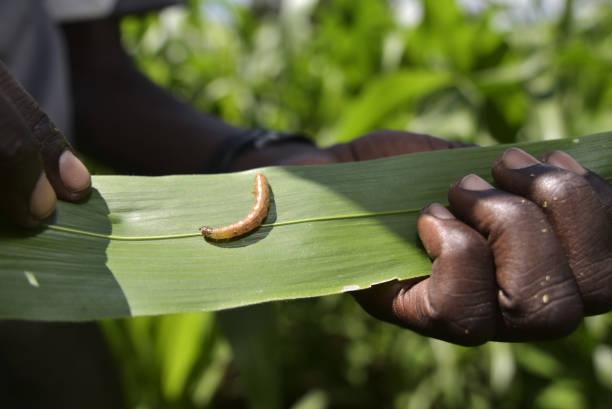Armyworm: (194, 171, 279, 254)
